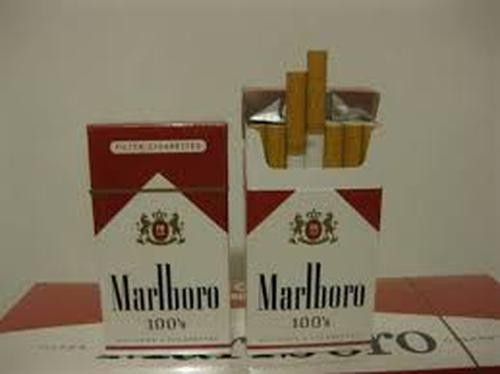marlboro: (100, 126, 229, 355), (246, 156, 375, 347)
